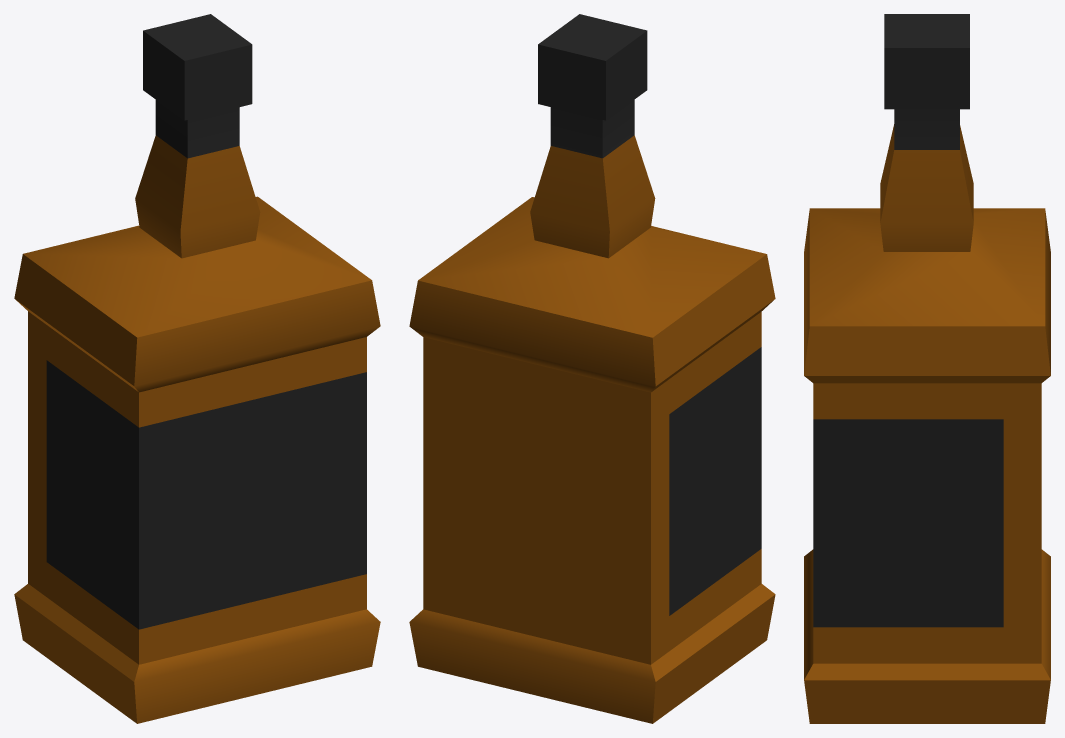
The model's file is bottle_wiskey_01.fbx.
The picture shows the model from 3 angles, left to right: view 1: azimuth 30°, elevation 25°; view 2: azimuth 150°, elevation 25°; view 3: azimuth 270°, elevation 25°; orthographic projection. The views are drawn at different scales.
Parts seen in each view (by area): view 1: bottle_wiskey_01; view 2: bottle_wiskey_01; view 3: bottle_wiskey_01.
Part boxes in pixels (<box>): bottle_wiskey_01: <box>14,14,380,723</box>; bottle_wiskey_01: <box>409,14,775,723</box>; bottle_wiskey_01: <box>804,14,1050,723</box>.
Bounding box in the file's own units: 31.6 × 75.5 × 26.65.
